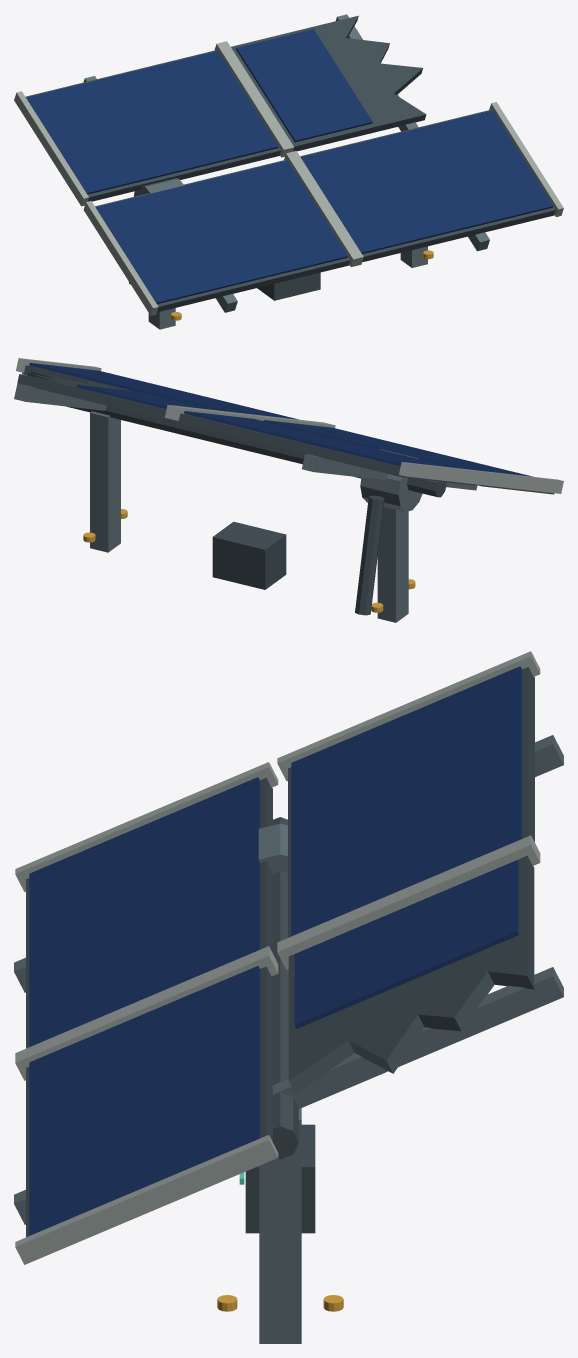
File: solar_panel_rack_d1.glb
The picture shows the model from 3 angles, top to bottom: view 1: azimuth 30°, elevation 25°; view 2: azimuth 150°, elevation 25°; view 3: azimuth 270°, elevation 25°; orthographic projection. The views are drawn at different scales.
Parts seen in each view (by area): view 1: SOLAR_GAME_MESH_001, SOLAR_GAME_MESH; view 2: SOLAR_GAME_MESH_001, SOLAR_GAME_MESH; view 3: SOLAR_GAME_MESH_001, SOLAR_GAME_MESH.
Part boxes in pixels (x1,y1,x2,y2): SOLAR_GAME_MESH_001: [14, 14, 563, 315]; SOLAR_GAME_MESH: [128, 178, 433, 329]; SOLAR_GAME_MESH_001: [14, 358, 563, 494]; SOLAR_GAME_MESH: [67, 405, 446, 622]; SOLAR_GAME_MESH_001: [14, 651, 563, 1264]; SOLAR_GAME_MESH: [217, 817, 343, 1343].
Bounding box in the file's own units: 4.88 × 2.29 × 3.
